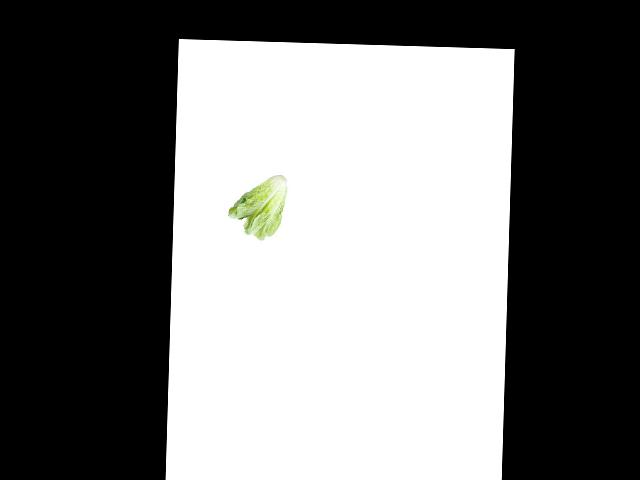lettuce: (224, 169, 293, 241)
